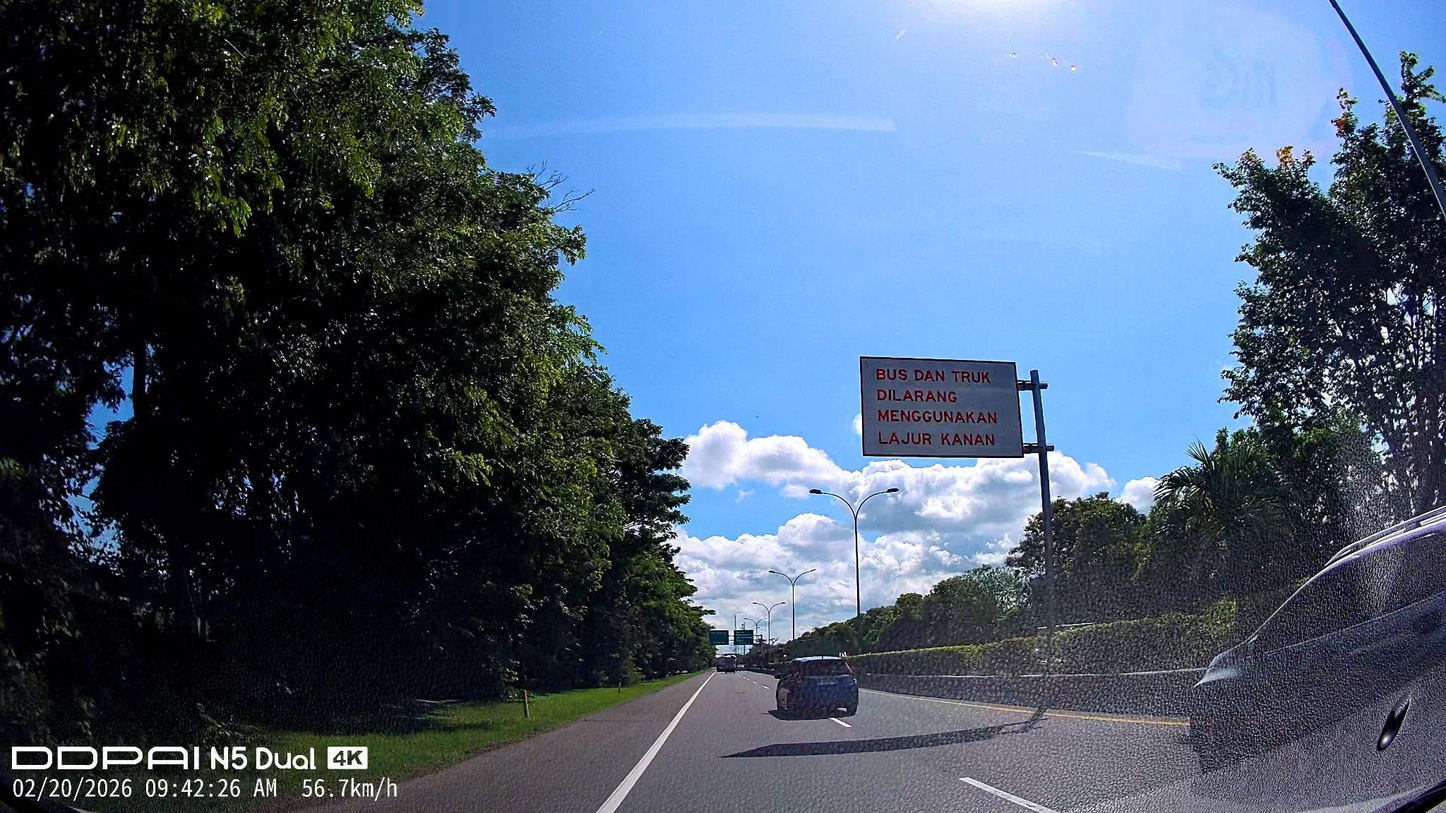rambu_teks: (859, 356, 1025, 459)
